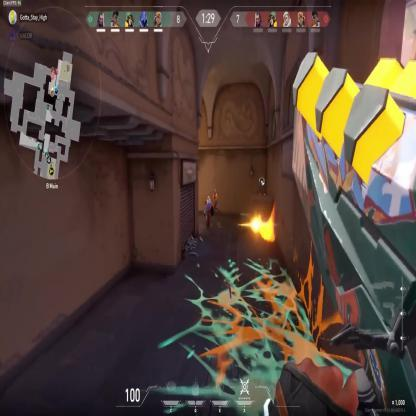enemy: (204, 196, 214, 228), (213, 189, 218, 217)
enemy_head: (214, 189, 217, 195), (208, 196, 210, 200)
